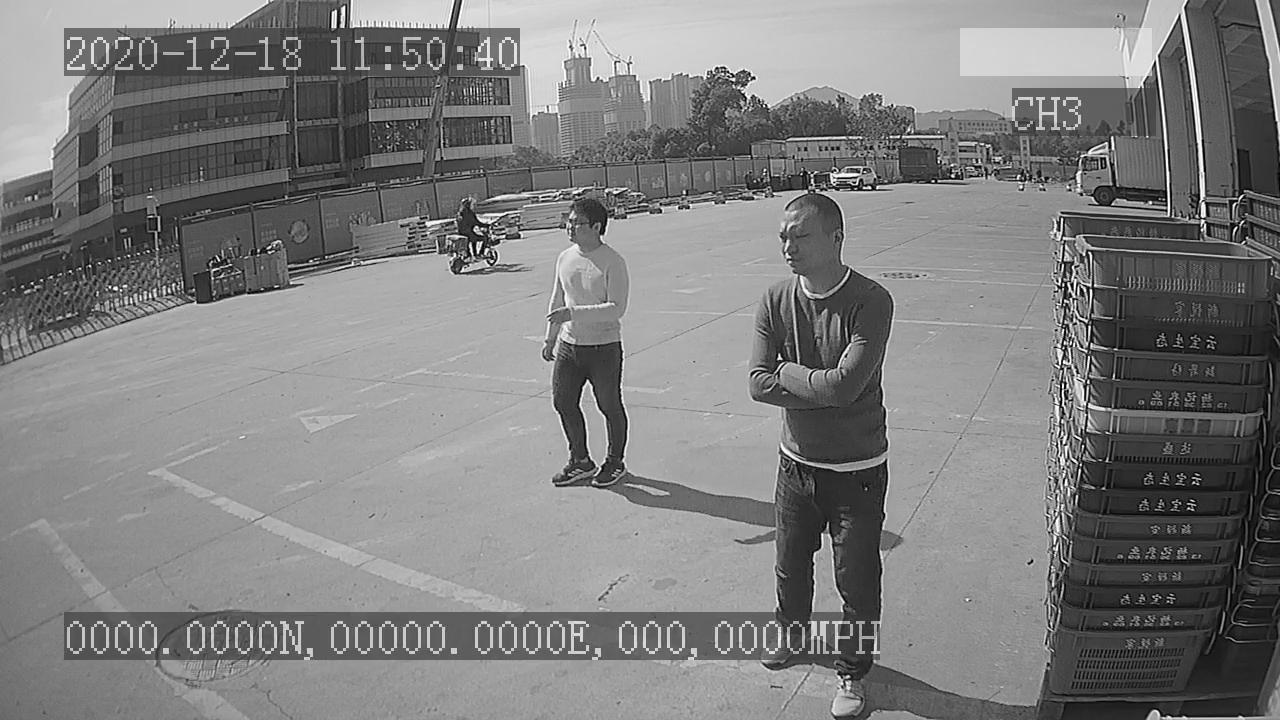person: (535, 194, 636, 495)
